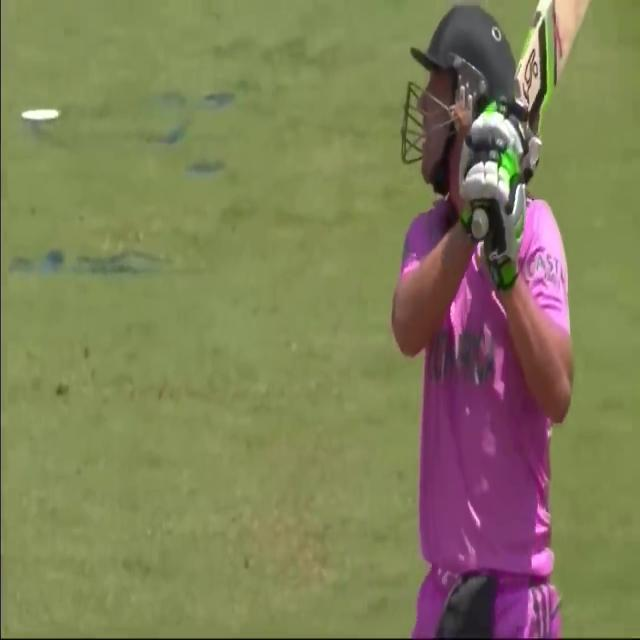Ball: (383, 1, 600, 634)
